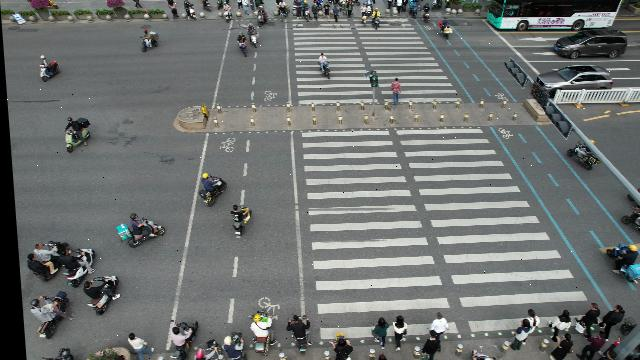non-motor-vehicle: (27, 291, 68, 341), (22, 240, 70, 280), (112, 213, 163, 247), (80, 275, 119, 317), (60, 242, 93, 286), (604, 243, 640, 280), (60, 116, 93, 154), (164, 322, 198, 358), (246, 310, 271, 356), (282, 314, 309, 354), (195, 174, 227, 206), (226, 204, 250, 236), (325, 332, 349, 360), (217, 330, 239, 360), (36, 55, 60, 81), (190, 339, 216, 359), (139, 30, 160, 52), (617, 210, 640, 230), (566, 152, 592, 168), (316, 53, 330, 79), (246, 23, 258, 47), (438, 17, 451, 39), (236, 31, 247, 56), (257, 7, 269, 27), (371, 8, 381, 30), (279, 0, 289, 22), (187, 0, 197, 20), (302, 0, 311, 22), (408, 0, 419, 18), (223, 2, 232, 23), (53, 348, 68, 360), (361, 4, 369, 26), (430, 0, 444, 10), (422, 3, 429, 22), (365, 1, 372, 16), (339, 1, 346, 12)
person: (121, 332, 149, 360), (505, 319, 530, 349), (573, 332, 601, 358), (597, 304, 620, 335), (366, 318, 385, 348), (426, 312, 446, 340), (549, 332, 569, 360), (388, 316, 403, 352), (417, 332, 435, 360), (547, 310, 567, 332), (579, 303, 597, 323), (390, 77, 401, 105), (519, 310, 534, 328), (346, 0, 354, 20), (323, 2, 330, 22), (332, 5, 339, 23), (312, 2, 318, 22), (296, 0, 302, 20), (243, 1, 250, 16), (396, 0, 402, 14), (402, 0, 409, 12), (134, 0, 143, 8), (236, 0, 243, 10), (250, 1, 255, 12), (169, 1, 176, 8), (254, 0, 260, 8), (386, 0, 392, 8), (276, 1, 282, 8)
